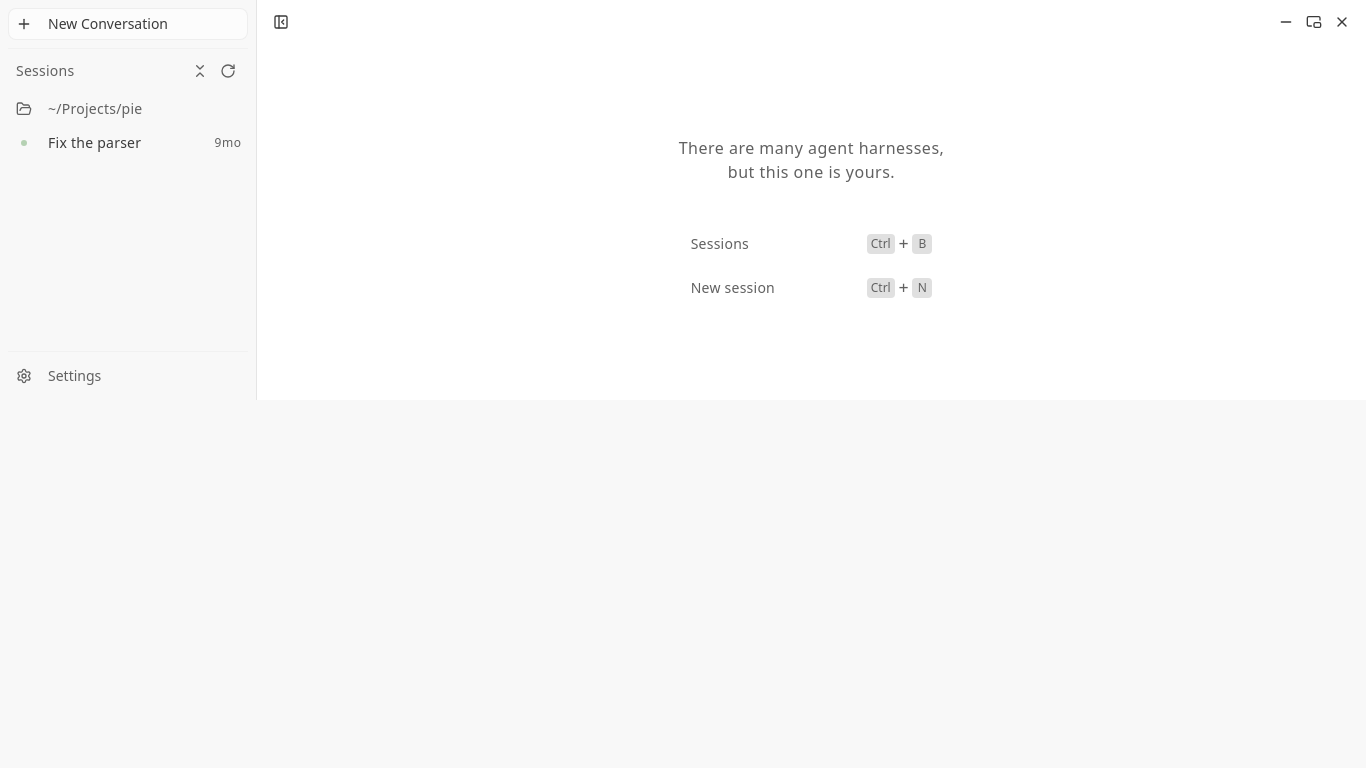
Test: ChatScreen › says a session is empty rather than showing nothing
The image size is (1366, 768).
What coordinates should you click on to do the following:
click the button "Fix the parser"
I would click on:
 (112, 143)
Its box is [16,131,208,155].
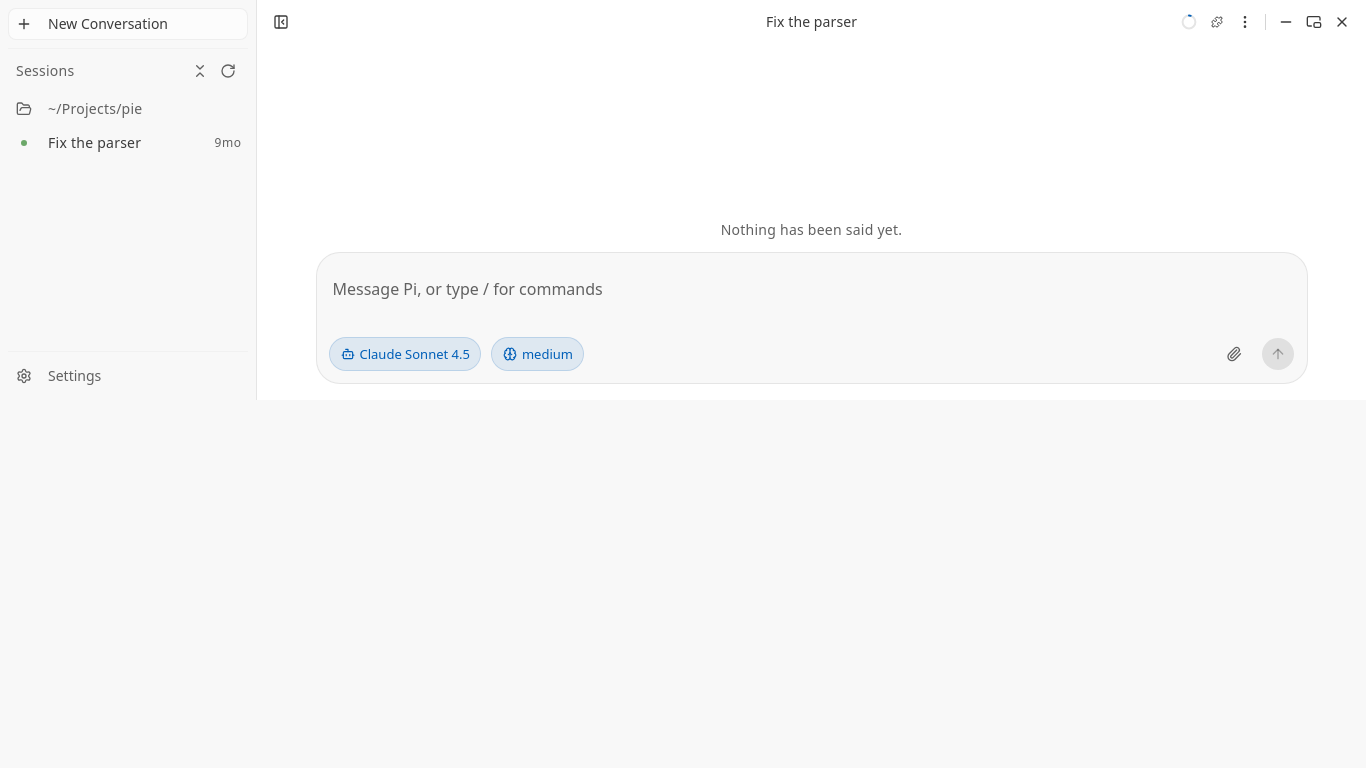
Expected: the text "Nothing has been said yet." is shown, [721,220,902,239]
